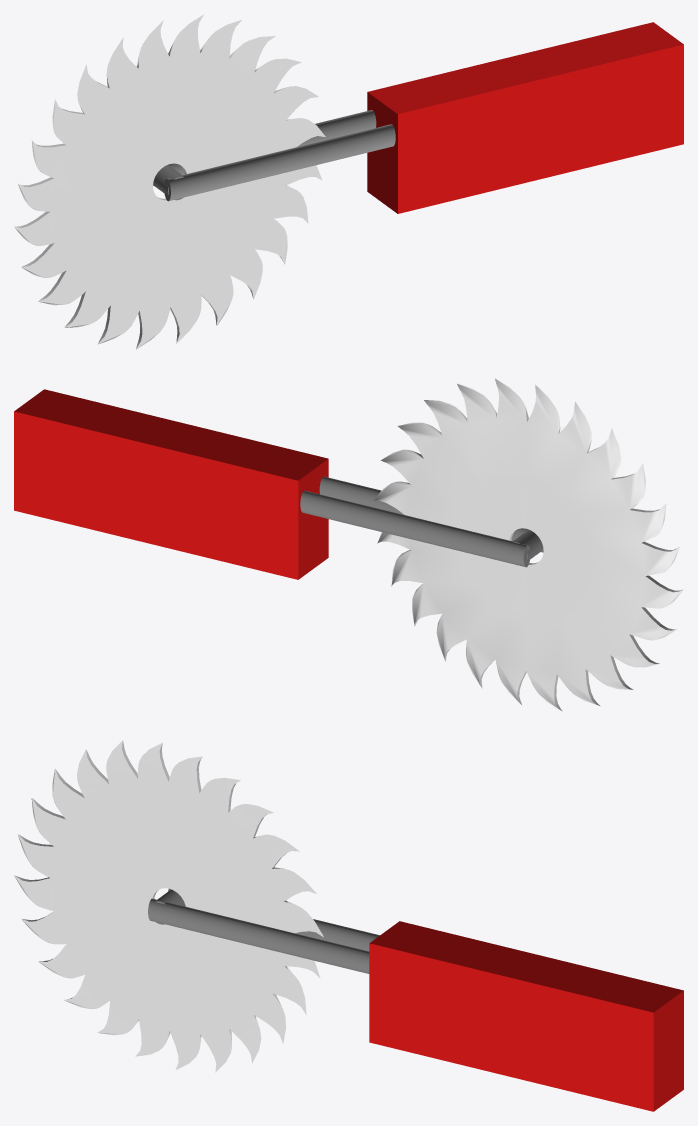
The model's file is saw.fbx.
3 views of the same model, one above another, from view 1: azimuth 30°, elevation 25°; view 2: azimuth 150°, elevation 25°; view 3: azimuth 330°, elevation 25° (orthographic).
Visible parts, largest first — view 1: imagetostl_mesh2, imagetostl_mesh1, imagetostl_mesh0; view 2: imagetostl_mesh2, imagetostl_mesh1, imagetostl_mesh0; view 3: imagetostl_mesh2, imagetostl_mesh1, imagetostl_mesh0.
Boxes of the visible parts, box(x1,y1,x2,y2) form: imagetostl_mesh2: box(14, 14, 325, 349); imagetostl_mesh1: box(367, 22, 683, 213); imagetostl_mesh0: box(153, 110, 395, 201); imagetostl_mesh2: box(374, 378, 683, 711); imagetostl_mesh1: box(14, 389, 328, 579); imagetostl_mesh0: box(300, 476, 543, 567); imagetostl_mesh2: box(14, 740, 323, 1072); imagetostl_mesh1: box(369, 921, 683, 1111); imagetostl_mesh0: box(148, 888, 379, 973).
Size of the model in its own units: 27548 by 13096 by 2217.
